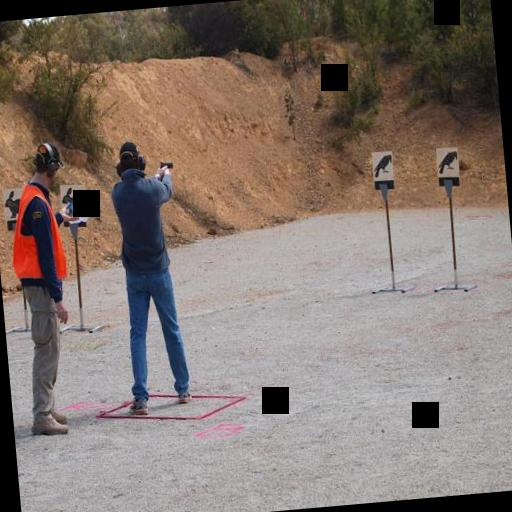Handgun: (154, 154, 174, 176)
